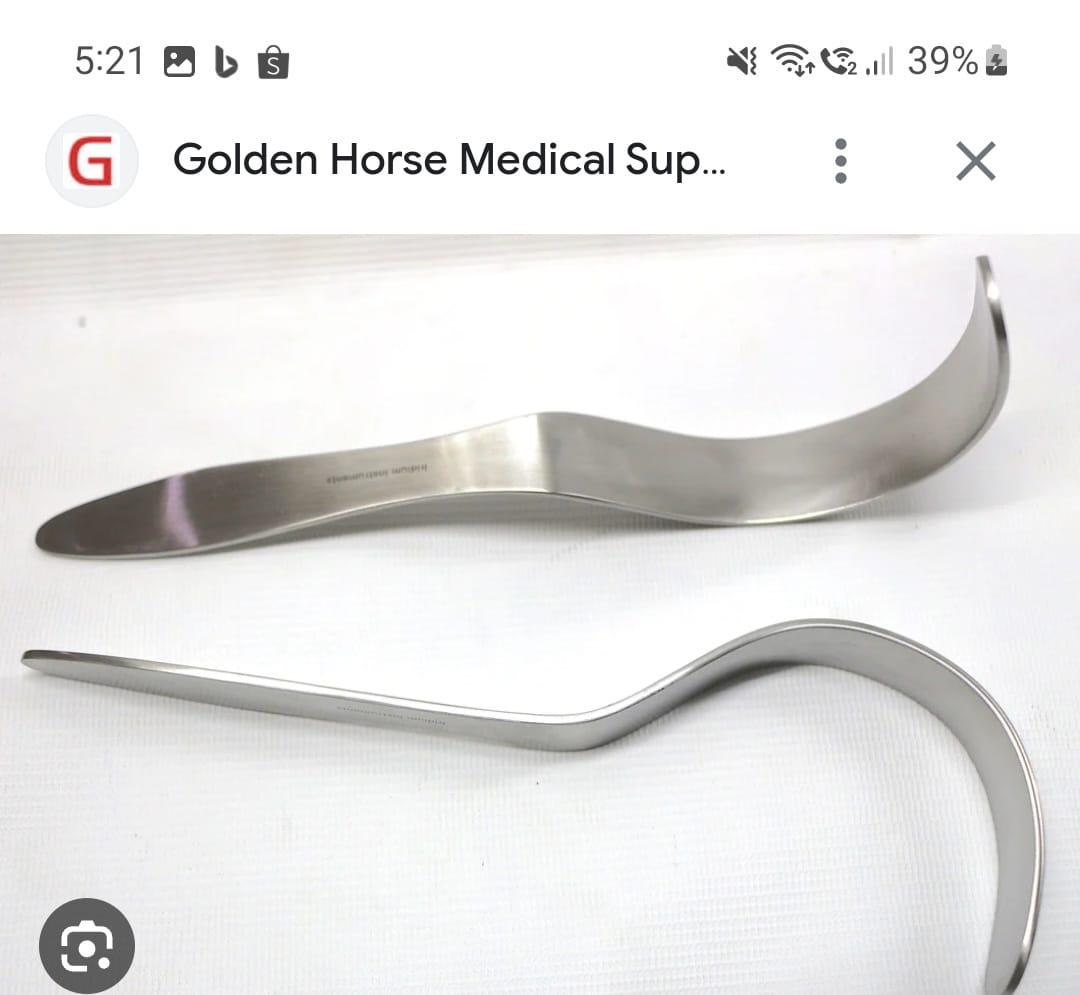Deaver Retractor: (13, 616, 1061, 986), (17, 233, 1019, 583)
